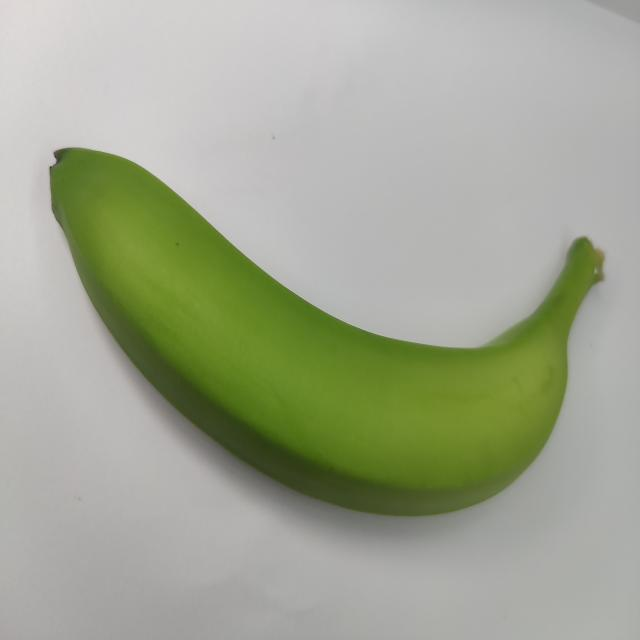raw: (32, 110, 623, 568)
